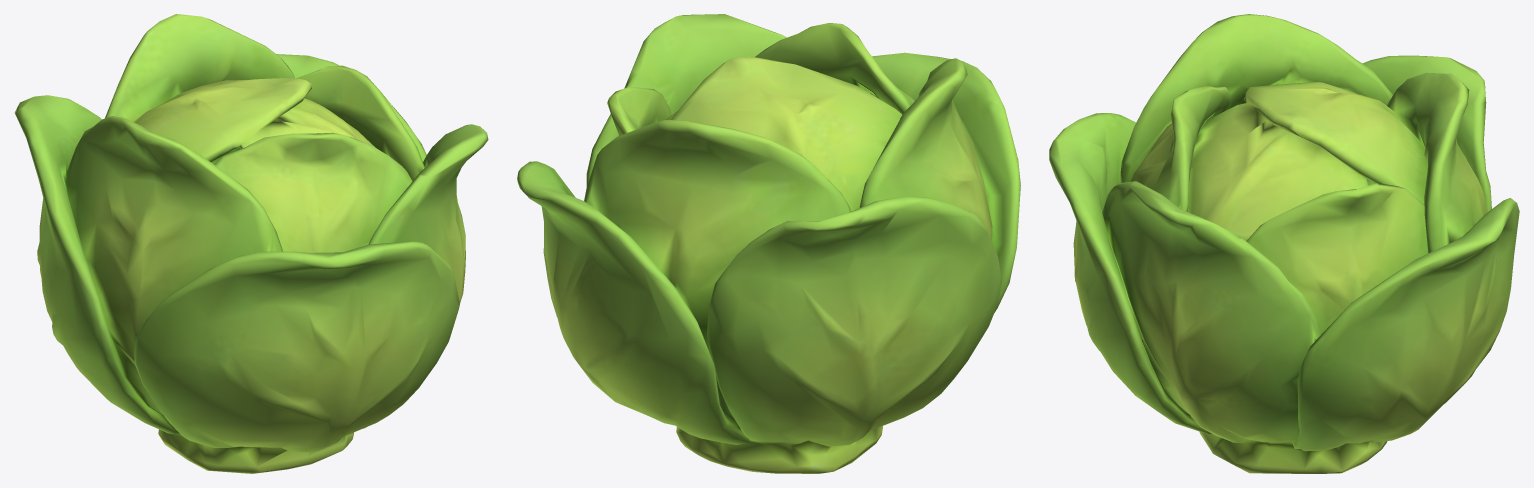
Rendered from cabbage_l1.glb.
3 views of the same model, side by side, from view 1: azimuth 30°, elevation 25°; view 2: azimuth 150°, elevation 25°; view 3: azimuth 270°, elevation 25° (orthographic). The views are drawn at different scales.
Visible parts, largest first — view 1: tripo_node_037c8b53-38f4-4d28-b2e4-917cd733979b; view 2: tripo_node_037c8b53-38f4-4d28-b2e4-917cd733979b; view 3: tripo_node_037c8b53-38f4-4d28-b2e4-917cd733979b.
Boxes of the visible parts, box(x1,y1,x2,y2) form: tripo_node_037c8b53-38f4-4d28-b2e4-917cd733979b: box(14, 14, 488, 473); tripo_node_037c8b53-38f4-4d28-b2e4-917cd733979b: box(517, 14, 1020, 473); tripo_node_037c8b53-38f4-4d28-b2e4-917cd733979b: box(1049, 14, 1519, 473).
Size of the model in its own units: 0.9262 by 0.8198 by 0.98.
1 material, 1 textured.
